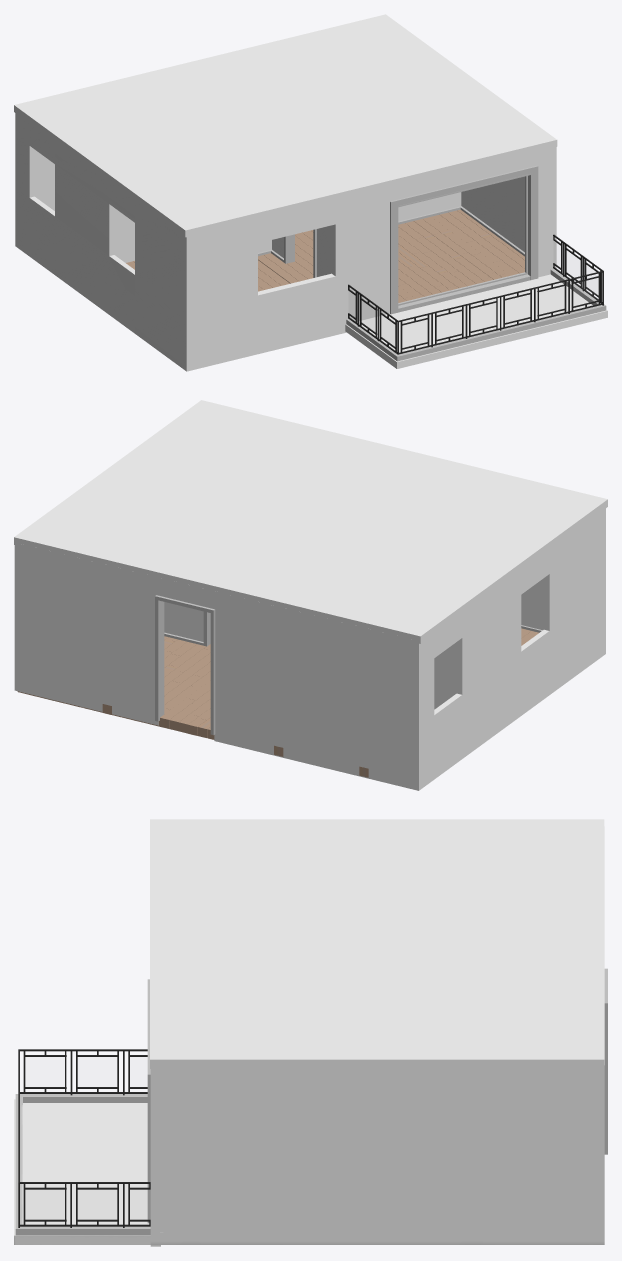
File: emptyApartment.gltf
3 renders of one model, top to bottom at view 1: azimuth 30°, elevation 25°; view 2: azimuth 150°, elevation 25°; view 3: azimuth 270°, elevation 25°, orthographic. The views are drawn at different scales.
Parts seen in each view (by area): view 1: balconyBase_geo1, exteriorWall, balconyBase_geo, balconyFrame, interiorWall, balcony01, pCube1; view 2: exteriorWall, balconyBase_geo1, interiorWall, pCube8.002, pCube7.002; view 3: balconyBase_geo1, exteriorWall, balconyBase_geo, balcony01, balconyFrame, pCube8.002.
Boxes of the visible parts, left/top/right/bottom form: balconyBase_geo1: left=14, top=14, right=557, bottom=237; exteriorWall: left=15, top=113, right=556, bottom=371; balconyBase_geo: left=345, top=274, right=607, bottom=368; balconyFrame: left=390, top=165, right=538, bottom=314; interiorWall: left=114, top=192, right=461, bottom=276; balcony01: left=346, top=269, right=606, bottom=361; pCube1: left=398, top=274, right=530, bottom=312; exteriorWall: left=14, top=508, right=605, bottom=790; balconyBase_geo1: left=14, top=400, right=607, bottom=643; interiorWall: left=164, top=602, right=456, bottom=709; pCube8.002: left=155, top=595, right=164, bottom=721; pCube7.002: left=210, top=608, right=215, bottom=735; balconyBase_geo1: left=150, top=819, right=604, bottom=1068; exteriorWall: left=150, top=826, right=604, bottom=1246; balconyBase_geo: left=14, top=1099, right=150, bottom=1244; balcony01: left=15, top=1094, right=150, bottom=1235; balconyFrame: left=147, top=979, right=150, bottom=1223; pCube8.002: left=604, top=1001, right=607, bottom=1154.
Bounding box in the file's own units: 2.8 × 1.02 × 2.93.
Materials: 2 (1 with a texture image).
